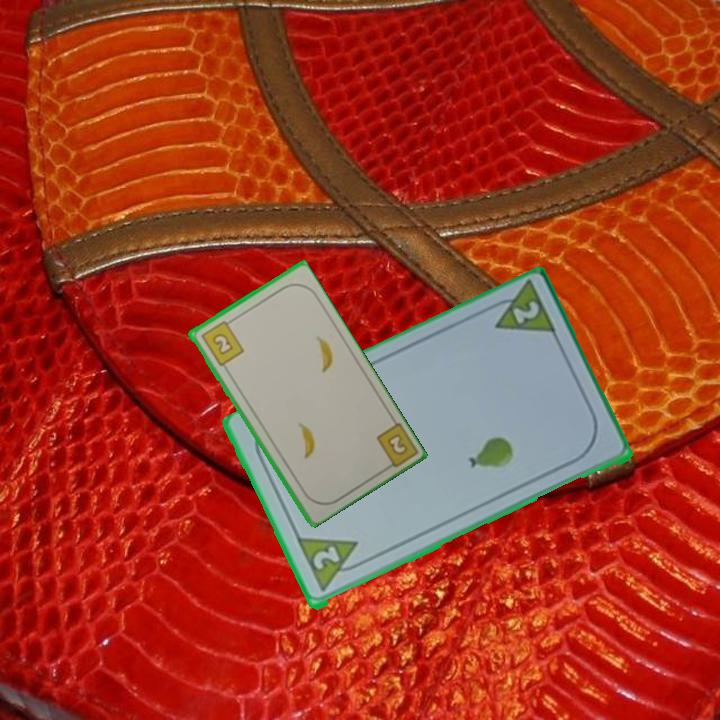2b: (197, 316, 247, 369), (372, 418, 418, 474)
2p: (308, 543, 343, 574), (508, 298, 543, 328)
